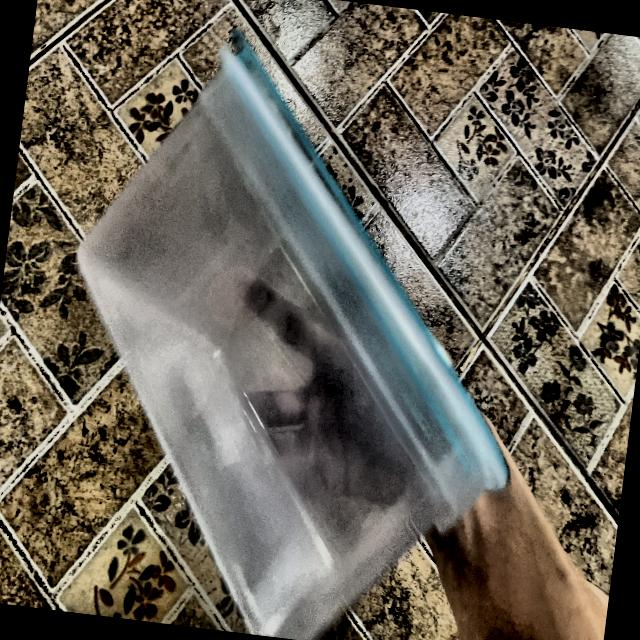plastic container: (41, 25, 550, 640)
